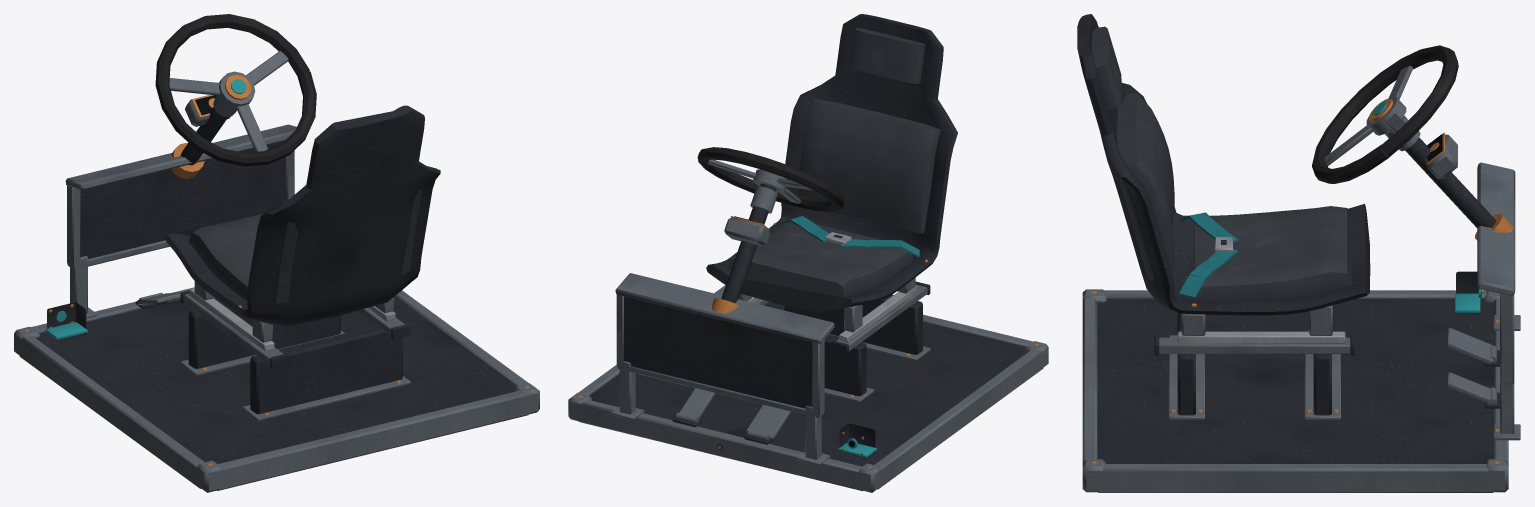
File: drivers_seat_1.glb
The picture shows the model from 3 angles, left to right: view 1: azimuth 30°, elevation 25°; view 2: azimuth 150°, elevation 25°; view 3: azimuth 270°, elevation 25°; orthographic projection. The views are drawn at different scales.
Visible parts, largest first — view 1: Base, ShellFrame, Steering, Cushion, Backrest; view 2: Base, ShellFrame, Backrest, Cushion, Steering, Brake, Throttle; view 3: Base, Cushion, ShellFrame, Steering, Backrest, Brake, Throttle.
Boxes of the visible parts, box(x1,y1,x2,y2) form: Base: box(14, 95, 539, 492); ShellFrame: box(165, 105, 440, 342); Steering: box(155, 14, 316, 166); Cushion: box(189, 213, 263, 300); Backrest: box(273, 189, 422, 303); Base: box(568, 183, 1048, 492); ShellFrame: box(706, 14, 957, 332); Backrest: box(798, 28, 940, 233); Cushion: box(728, 216, 919, 297); Steering: box(697, 147, 844, 212); Brake: box(746, 404, 790, 439); Throttle: box(679, 388, 715, 420); Base: box(1082, 115, 1520, 492); Cushion: box(1179, 206, 1352, 301); ShellFrame: box(1077, 14, 1370, 335); Steering: box(1312, 45, 1458, 183); Backrest: box(1092, 26, 1174, 280); Brake: box(1446, 327, 1493, 364); Throttle: box(1446, 372, 1491, 402).
Size of the model in its own units: 0.94 by 0.901 by 0.9791.
Materials: 10 (7 with a texture image).
